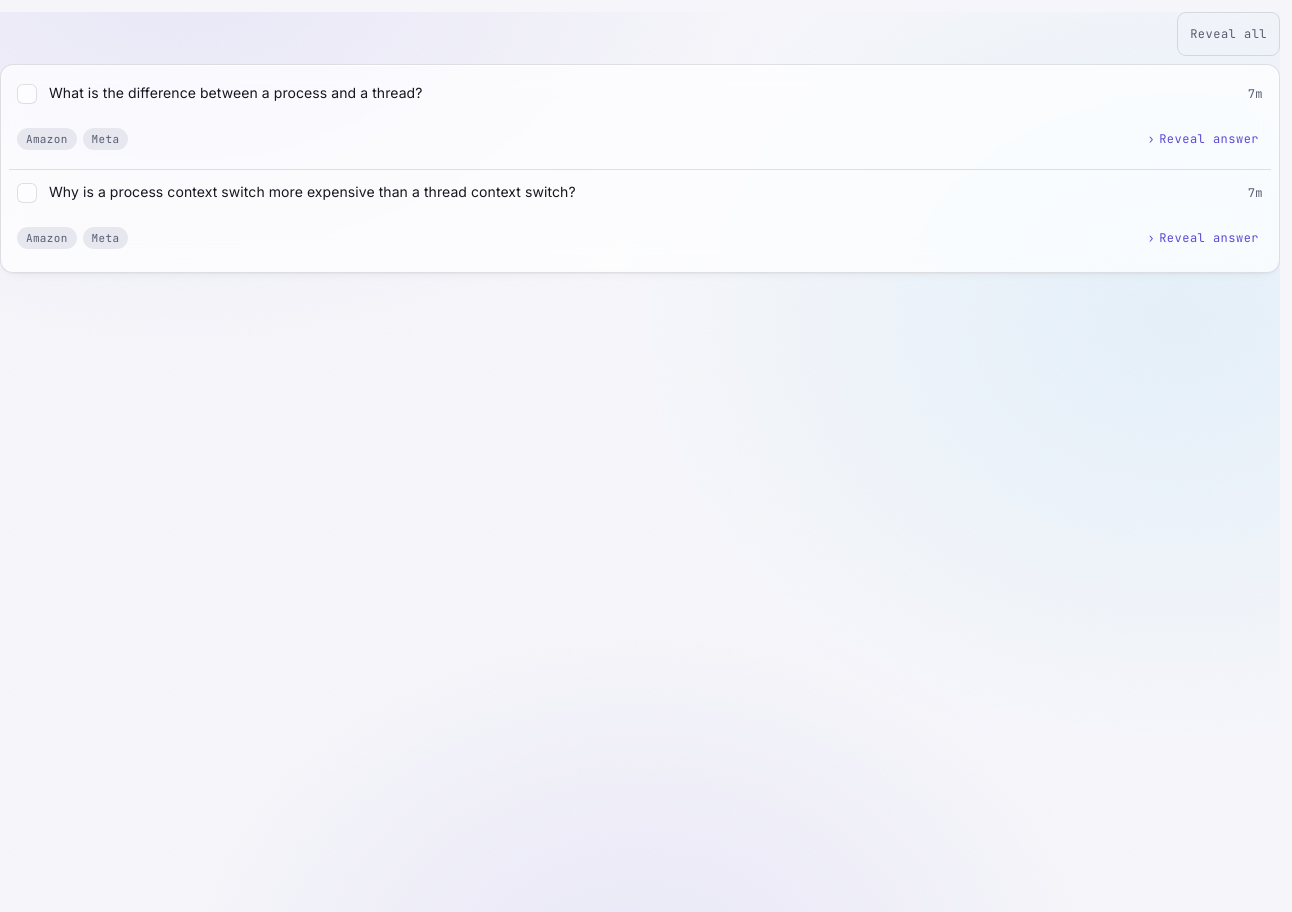
Scenario: CsFundamentalsTopic › reveal all shows every answer, and hide all puts them away
The image size is (1292, 912).
What coordinates should you click on to do the following:
click the button "Reveal all"
I would click on:
 (1229, 34)
Its box is [1177,12,1280,56].
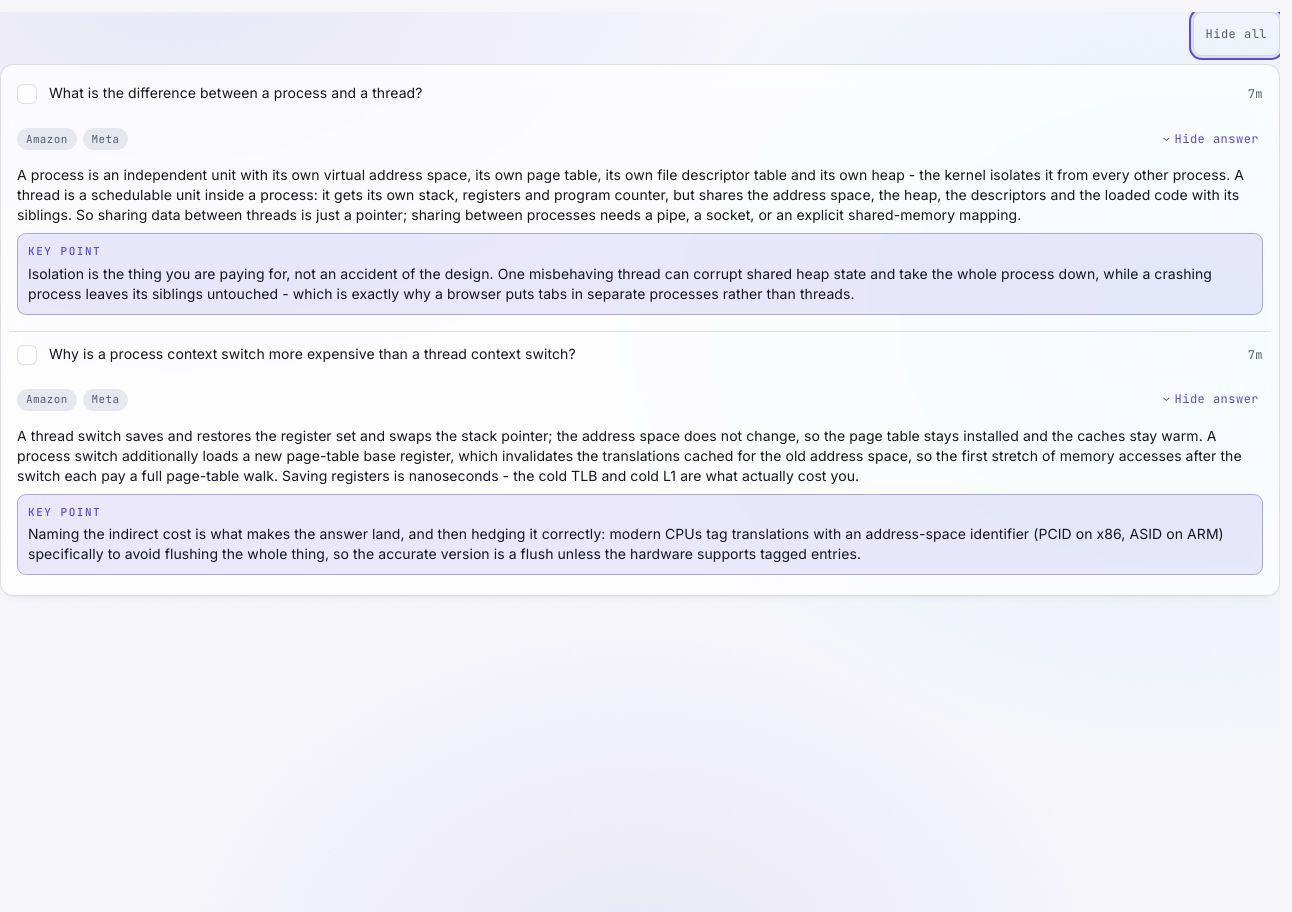
Expected: the text "A process is an independent unit with its own virtual address space, its own page table, its own file descriptor table a" is shown, [17,166,1244,223]
Expected: the text "Isolation is the thing you are paying for, not an accident of the design. One misbehaving thread can corrupt shared heap" is shown, [28,265,1212,302]
Expected: the text "A thread switch saves and restores the register set and swaps the stack pointer; the address space does not change, so t" is shown, [17,427,1242,484]
What coordinates should you click on to do the following:
click the button "Hide all"
I would click on:
 (1236, 34)
Its box is [1192,12,1280,56].
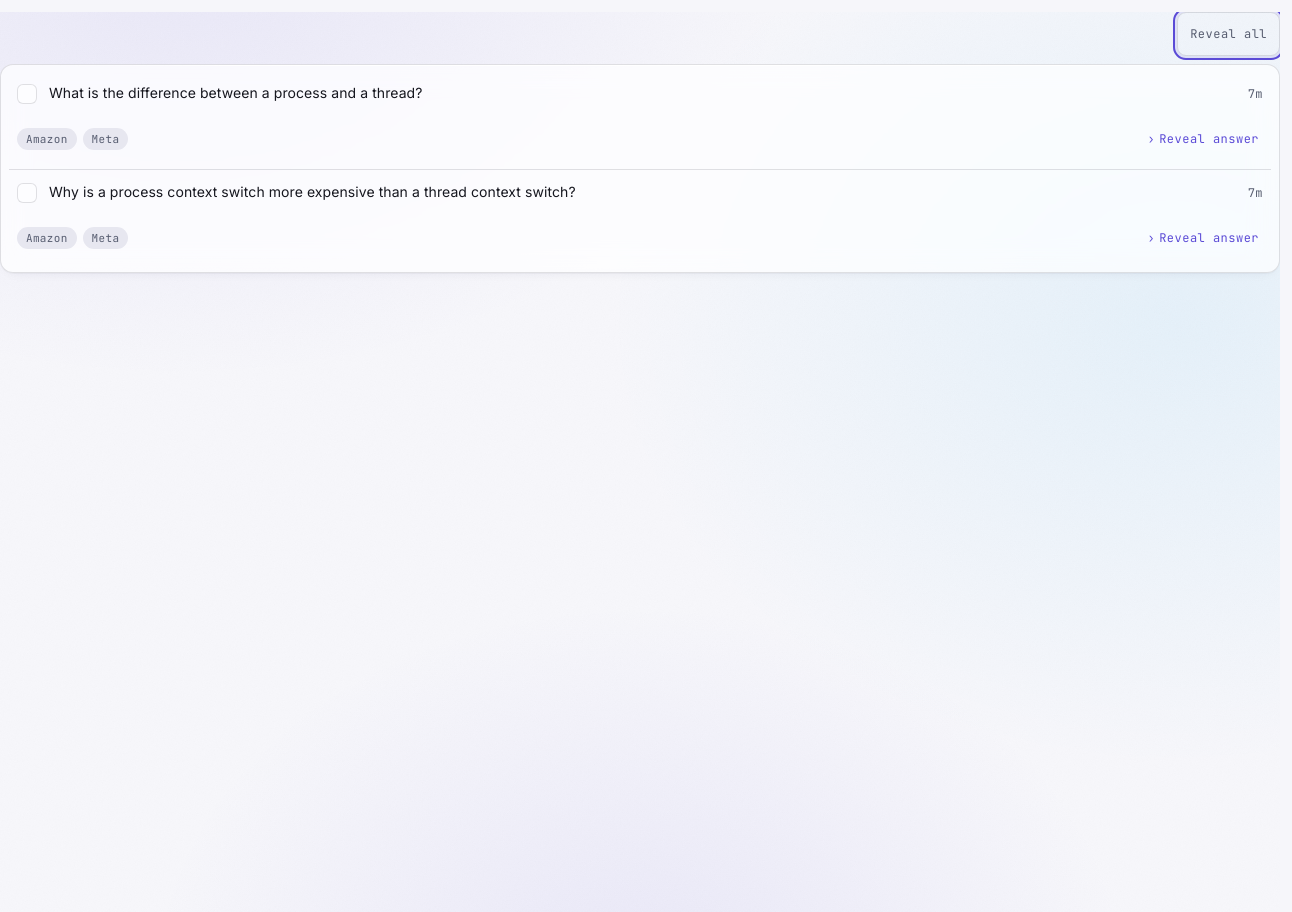
Expected: the text "A process is an independent unit with its own virtual address space, its own page table, its own file descriptor table a" is gone
Expected: the text "A thread switch saves and restores the register set and swaps the stack pointer; the address space does not change, so t" is gone
